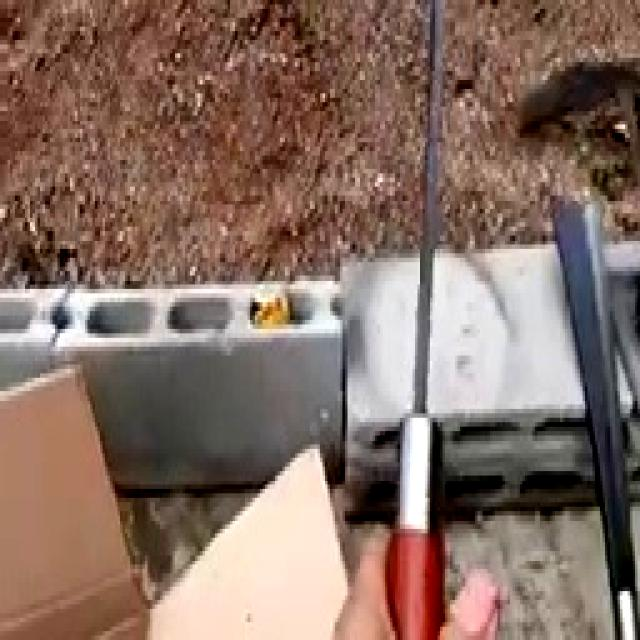eto: (548, 190, 640, 640)
